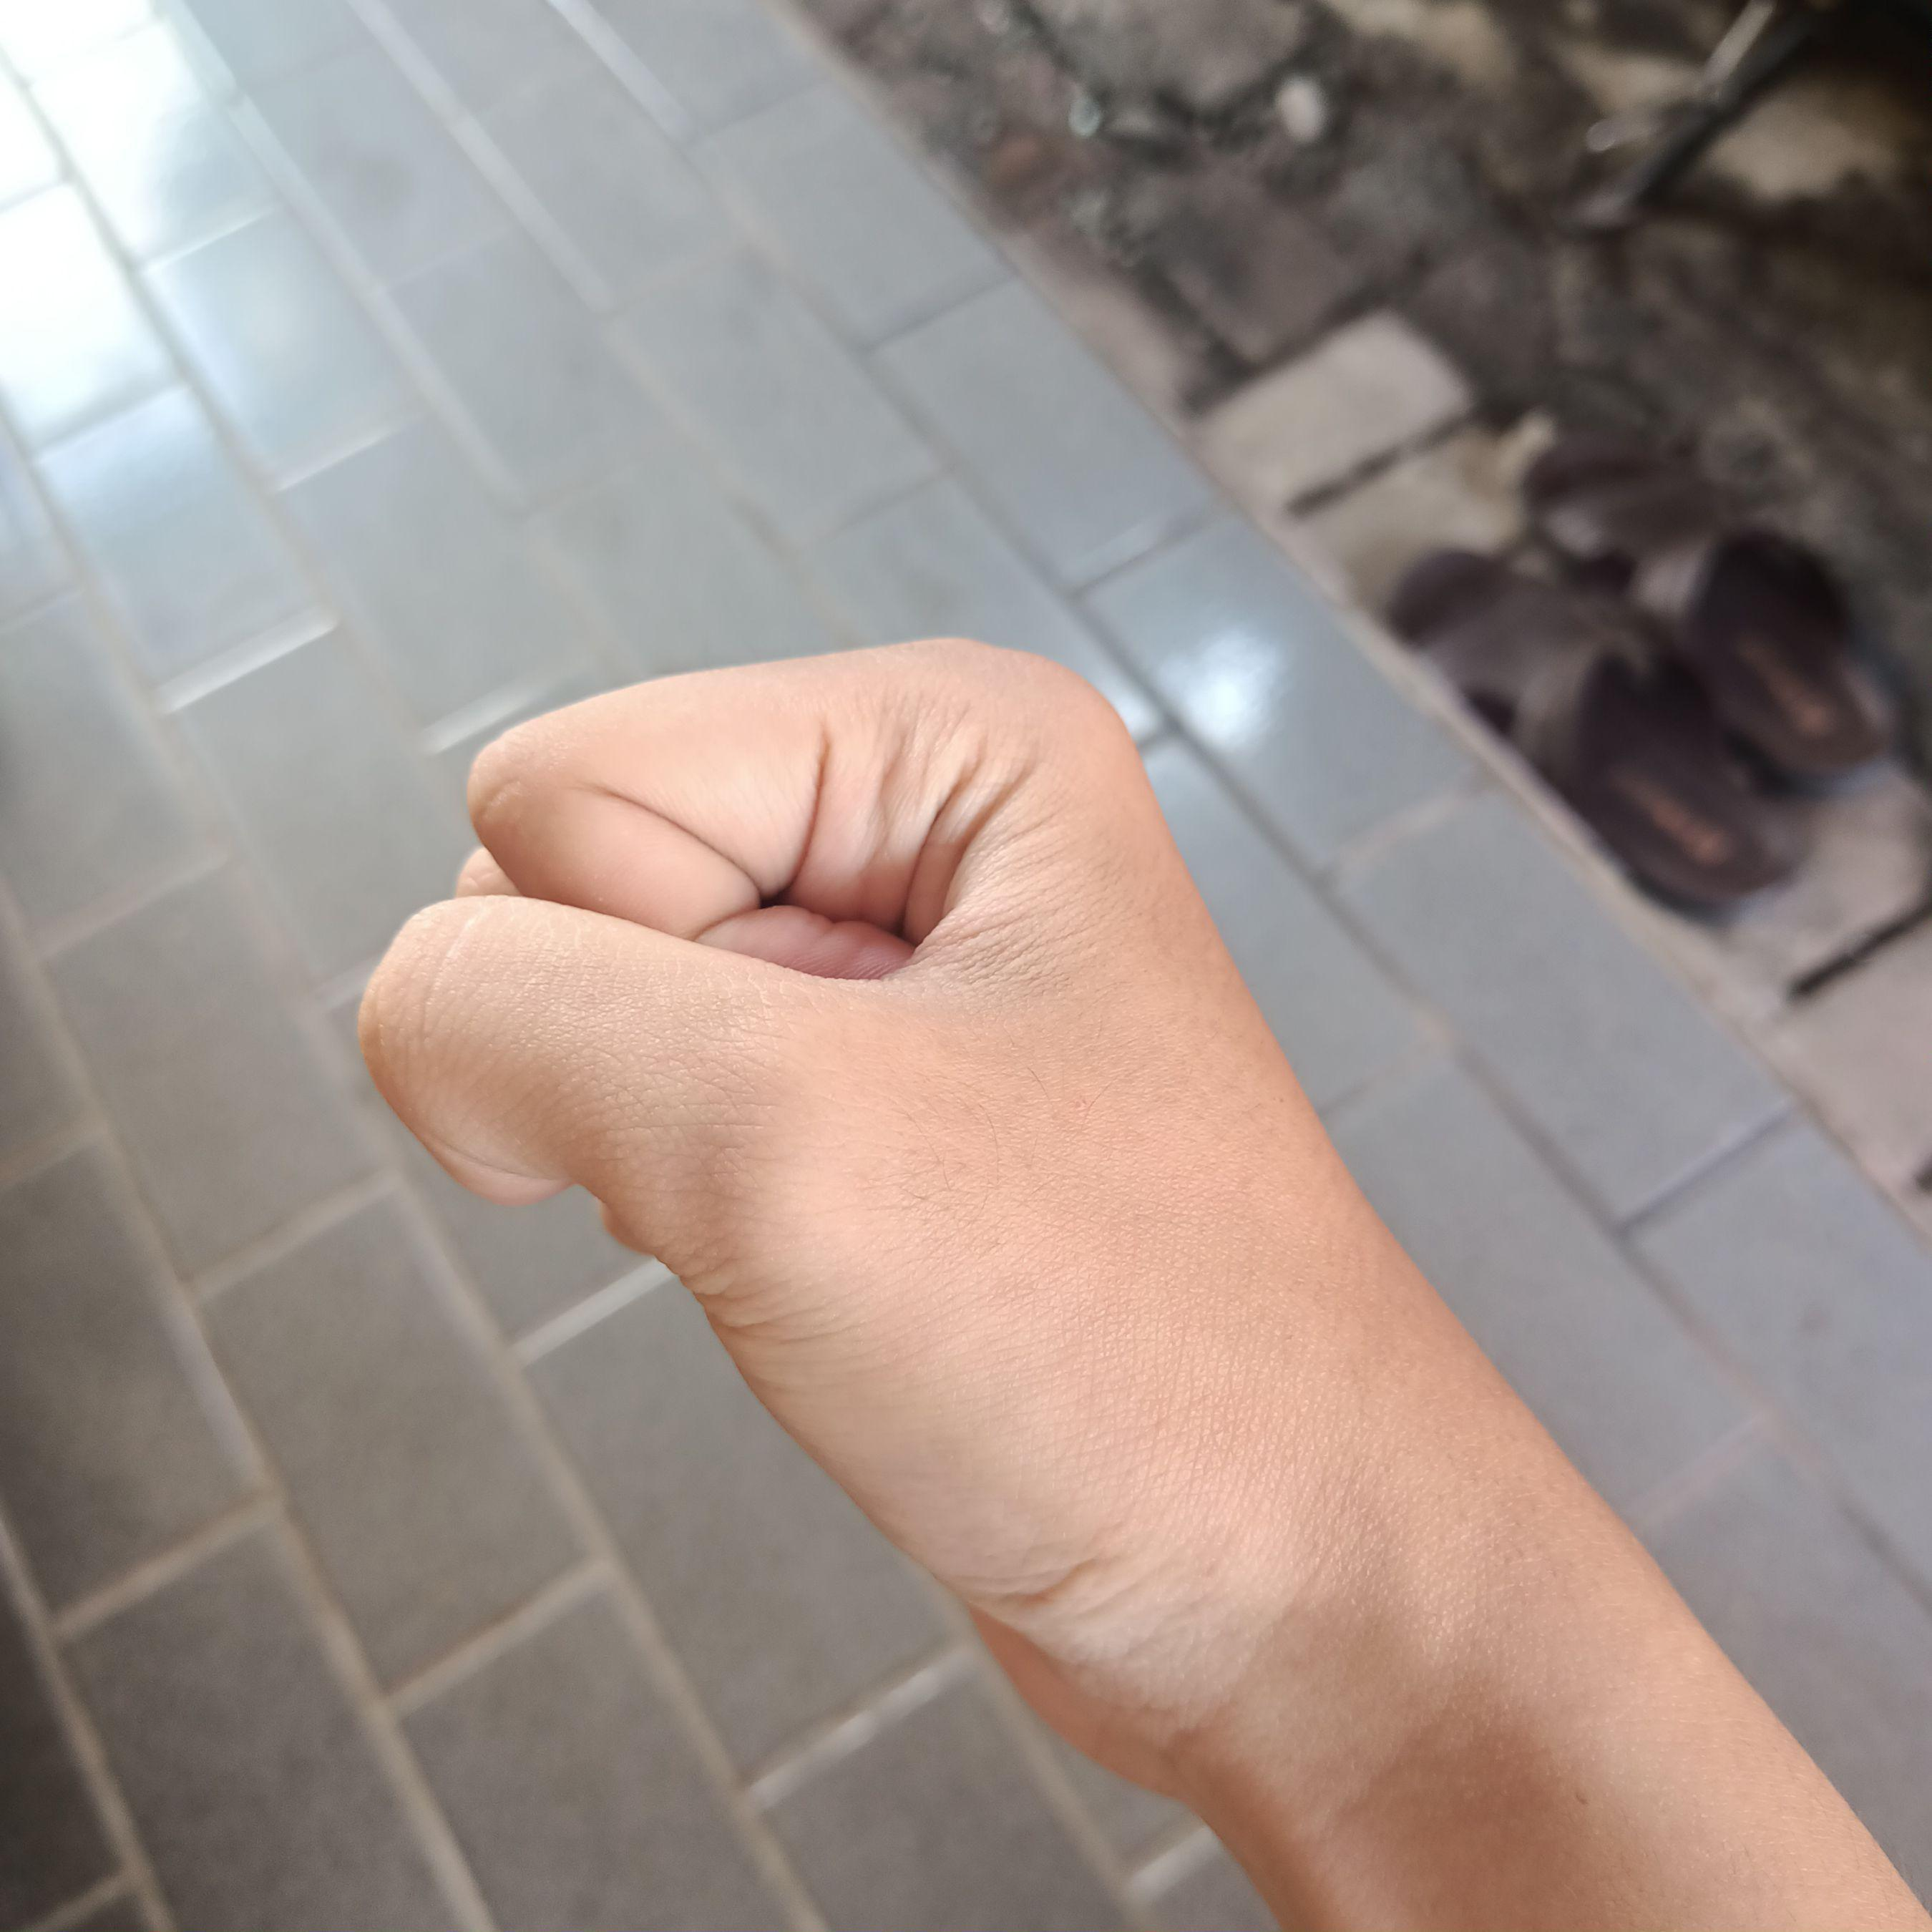rock: (334, 598, 1451, 1821)
